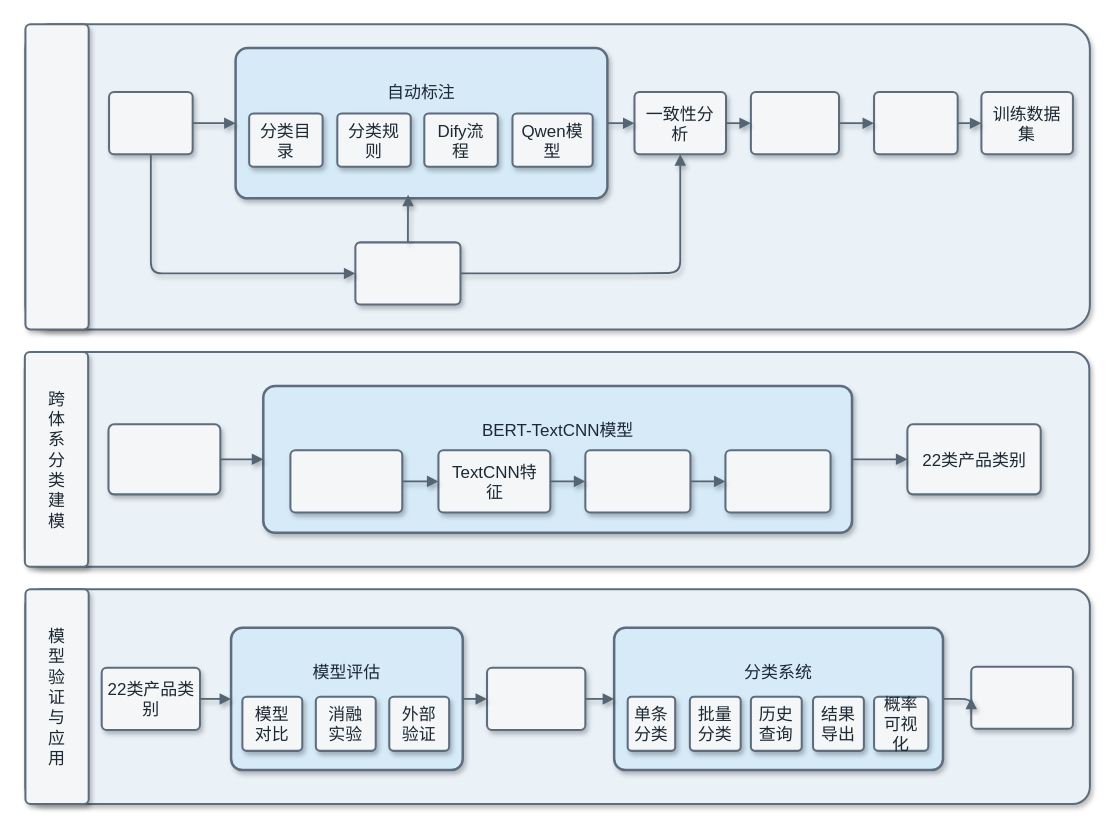
This 1118x833 diagram has some shape labels left out. The centre of each missing label's shape, as x and y in pixels:
"RoBERTa语义" belongs at point (347, 482).
"Softmax分类" belongs at point (778, 482).
"TOST检验" belongs at point (795, 124).
"专利到目录映射" belongs at point (1022, 699).
"专利摘要" belongs at point (165, 460).
"专家校对集" belongs at point (408, 274).
"候选专利" belongs at point (151, 124).
"数 据 质 量 控 制" belongs at point (57, 178).
"最优分类模型" belongs at point (537, 700).
"特征融合" belongs at point (638, 482).
"过滤增强" belongs at point (916, 124).
